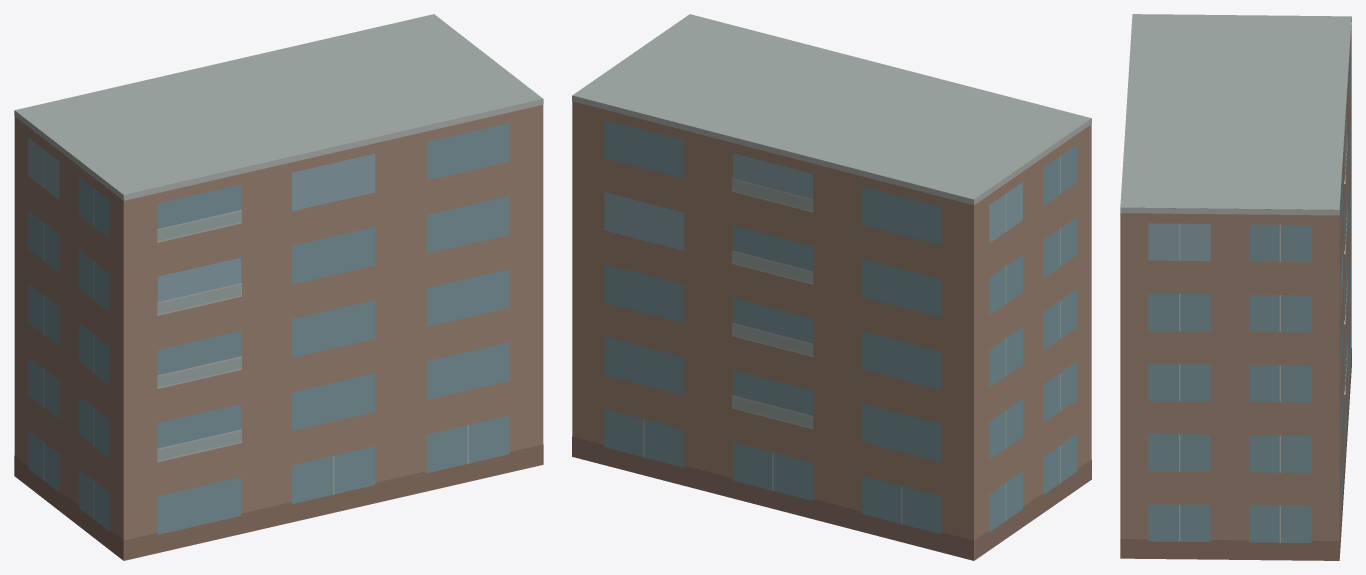
Rendered from survey-upis-32760133.glb.
3 renders of one model, left to right at view 1: azimuth 30°, elevation 25°; view 2: azimuth 150°, elevation 25°; view 3: azimuth 270°, elevation 25°, orthographic. The views are drawn at different scales.
Parts seen in each view (by area): view 1: survey-upis-32760133.tmp; view 2: survey-upis-32760133.tmp; view 3: survey-upis-32760133.tmp.
Boxes of the visible parts, <box> form: survey-upis-32760133.tmp: <box>14,14,543,560</box>; survey-upis-32760133.tmp: <box>572,14,1091,560</box>; survey-upis-32760133.tmp: <box>1120,14,1351,560</box>.
Bounding box in the file's own units: 18.26 × 15.25 × 9.12.
